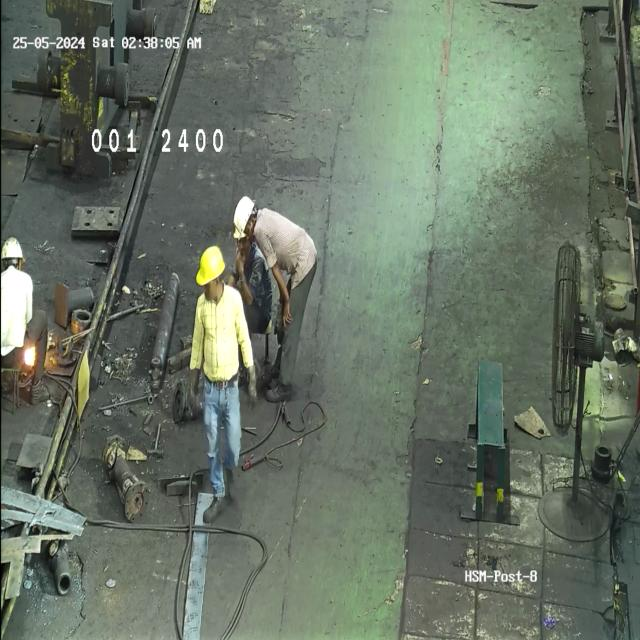Boots: (262, 377, 303, 411), (212, 459, 244, 502), (198, 493, 225, 530), (28, 377, 57, 408), (262, 357, 293, 381), (224, 366, 253, 387)
Gloves: (181, 360, 205, 421), (243, 348, 260, 410), (271, 293, 285, 350)
Hardhat: (191, 230, 229, 305), (230, 190, 265, 243), (0, 232, 31, 278), (227, 218, 249, 255)
NO-Gloves: (236, 251, 249, 295), (280, 293, 293, 329)
Person: (188, 246, 257, 503)
